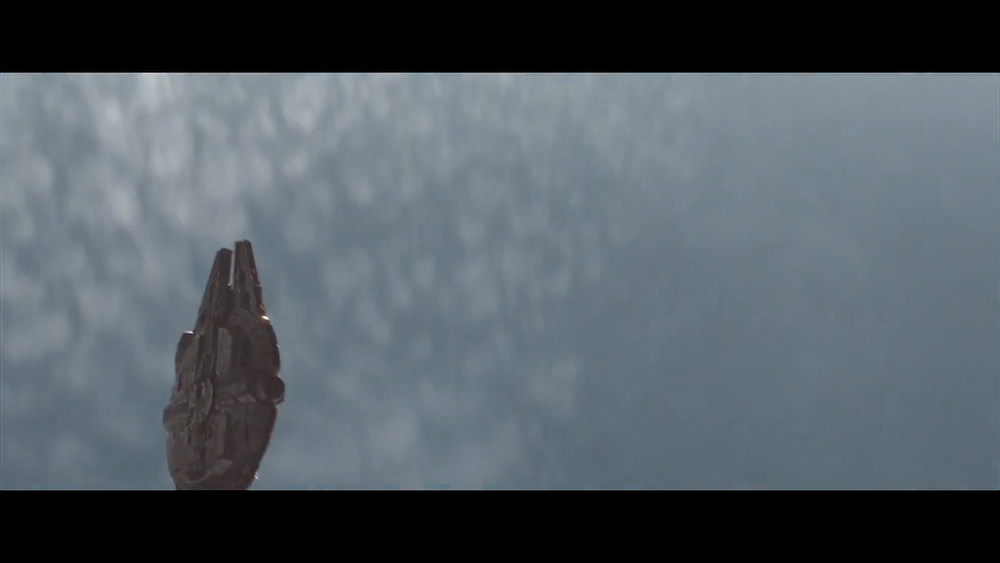Millennium Falcon: (162, 241, 289, 492)
